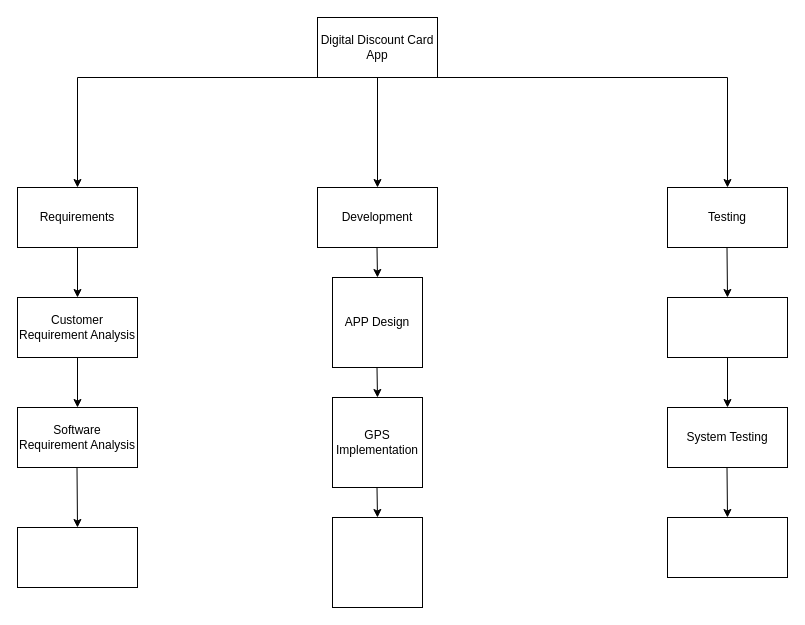
Image size: 805x625. Some labels were removed from this diagram. The centre of each missing label's shape, as x and y in pixels:
Acceptance Testing: the point at 727,547
Component Testing: the point at 727,327
Database: the point at 377,562
Documentation: the point at 77,557
